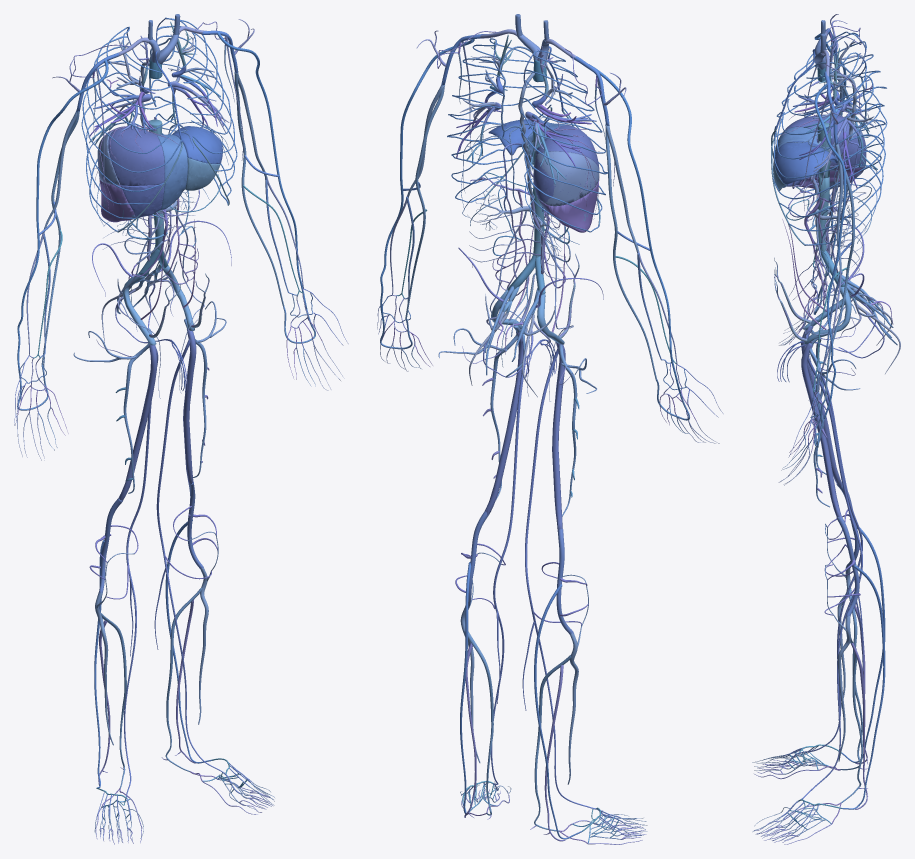
The model's file is body-veins.lod0.glb.
3 views of the same model, side by side, from view 1: azimuth 30°, elevation 25°; view 2: azimuth 150°, elevation 25°; view 3: azimuth 270°, elevation 25° (orthographic). The views are drawn at different scales.
Parts seen in each view (by area): view 1: set-of-anterior-intercostal-veins, hepatovenous-segment-viii, hepatovenous-segment-iv, great-saphenous-vein-l, hepatovenous-segment-ii, great-saphenous-vein-r, femoral-vein-r, cephalic-vein-r, femoral-vein-l, hepatovenous-segment-v, hepatovenous-segment-vii, cephalic-vein-l (+8 smaller); view 2: set-of-anterior-intercostal-veins, hepatovenous-segment-ix, hepatovenous-segment-viii, great-saphenous-vein-r, great-saphenous-vein-l, femoral-vein-r, hepatovenous-segment-vii, femoral-vein-l, cephalic-vein-r, cephalic-vein-l, basilic-vein-r, small-saphenous-vein-r (+5 smaller); view 3: set-of-anterior-intercostal-veins, hepatovenous-segment-ii, great-saphenous-vein-l, femoral-vein-l, hepatovenous-segment-viii, cephalic-vein-l, great-saphenous-vein-r, inferior-vena-cava, small-saphenous-vein-l, set-of-plantar-digital-veins, basilic-vein-l, femoral-vein-r (+19 smaller).
Part boxes in pixels (x1,y1,x2,y2): set-of-anterior-intercostal-veins: (81, 17, 237, 231); hepatovenous-segment-viii: (99, 126, 164, 185); hepatovenous-segment-iv: (157, 134, 187, 209); great-saphenous-vein-l: (154, 338, 222, 771); hepatovenous-segment-ii: (172, 126, 222, 163); great-saphenous-vein-r: (124, 346, 158, 795); femoral-vein-r: (118, 344, 156, 500); cephalic-vein-r: (17, 59, 108, 378); femoral-vein-l: (183, 329, 196, 484); hepatovenous-segment-v: (120, 184, 164, 217); hepatovenous-segment-vii: (99, 178, 134, 222); cephalic-vein-l: (217, 31, 307, 309); set-of-anterior-intercostal-veins: (447, 38, 607, 244); hepatovenous-segment-ix: (536, 151, 599, 206); hepatovenous-segment-viii: (533, 125, 599, 204); great-saphenous-vein-r: (522, 349, 593, 808); great-saphenous-vein-l: (491, 341, 526, 784); femoral-vein-r: (552, 342, 565, 531); hepatovenous-segment-vii: (538, 178, 599, 232); femoral-vein-l: (485, 329, 523, 515); cephalic-vein-r: (589, 64, 680, 393); cephalic-vein-l: (380, 39, 474, 321); basilic-vein-r: (605, 128, 656, 379); small-saphenous-vein-r: (534, 584, 582, 839); set-of-anterior-intercostal-veins: (772, 31, 887, 248); hepatovenous-segment-ii: (774, 141, 837, 184); great-saphenous-vein-l: (802, 356, 863, 799); femoral-vein-l: (801, 343, 841, 517); hepatovenous-segment-viii: (781, 114, 866, 165); cephalic-vein-l: (814, 83, 846, 418); great-saphenous-vein-r: (802, 333, 863, 752); inferior-vena-cava: (816, 122, 830, 252); small-saphenous-vein-l: (842, 565, 885, 809); set-of-plantar-digital-veins: (754, 760, 831, 844); basilic-vein-l: (824, 143, 854, 399); femoral-vein-r: (801, 326, 841, 486).
Bounding box in the file's own units: 0.6487 × 1.46 × 0.2536.
